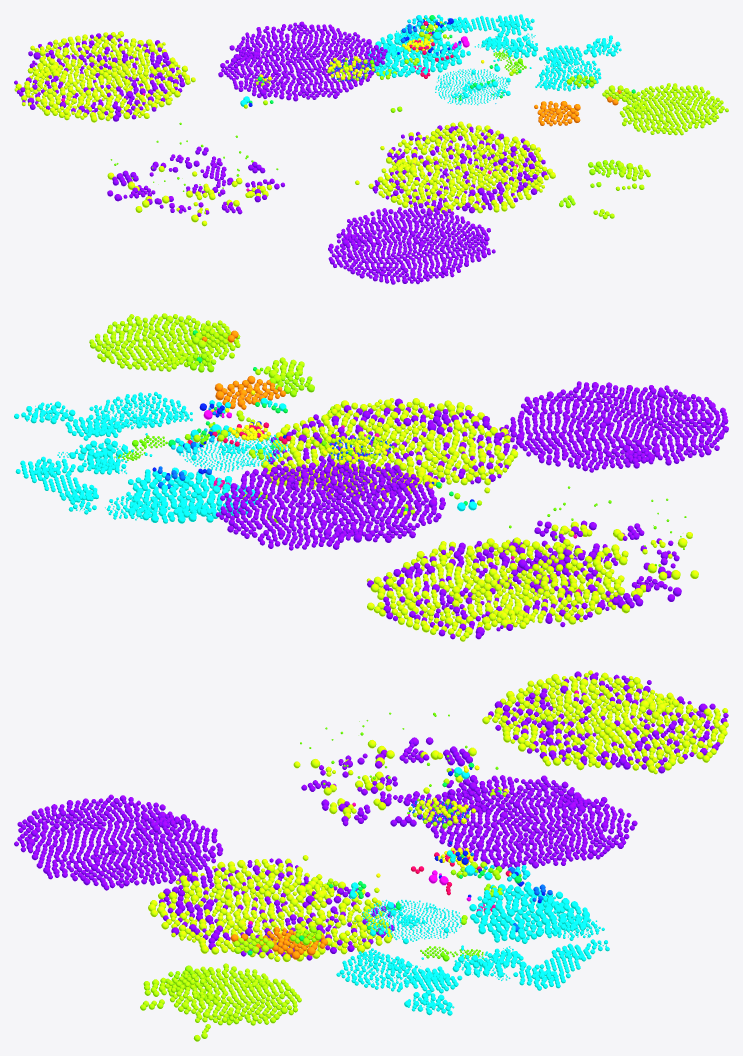
Rendered from task-91d44ac9c-layout.gltf.
3 views of the same model, one above another, from view 1: azimuth 30°, elevation 25°; view 2: azimuth 150°, elevation 25°; view 3: azimuth 270°, elevation 25° (orthographic). The views are drawn at different scales.
Visible parts, largest first — view 1: normal_out_files, normal_pcap_files, normal_no_ext_files, normal_pcapng_files, normal_c_files, normal_h_files, normal_inc_files, normal_txt_files; view 2: normal_out_files, normal_pcap_files, normal_no_ext_files, normal_pcapng_files, normal_c_files, normal_inc_files, normal_h_files, normal_txt_files, normal_cpp_files, normal_sh_files; view 3: normal_out_files, normal_pcap_files, normal_no_ext_files, normal_pcapng_files, normal_c_files, normal_inc_files, normal_h_files, normal_txt_files.
Part boxes in pixels (x1=…): normal_out_files: x1=107, y1=21, x2=495, y2=284; normal_pcap_files: x1=14, y1=31, x2=555, y2=226; normal_no_ext_files: x1=363, y1=14, x2=621, y2=105; normal_pcapng_files: x1=14, y1=33, x2=547, y2=213; normal_c_files: x1=243, y1=24, x2=728, y2=219; normal_h_files: x1=341, y1=23, x2=637, y2=208; normal_inc_files: x1=534, y1=89, x2=621, y2=126; normal_txt_files: x1=39, y1=18, x2=526, y2=193; normal_out_files: x1=216, y1=381, x2=728, y2=601; normal_pcap_files: x1=261, y1=398, x2=698, y2=641; normal_no_ext_files: x1=14, y1=391, x2=289, y2=523; normal_pcapng_files: x1=268, y1=398, x2=679, y2=639; normal_c_files: x1=89, y1=313, x2=481, y2=514; normal_inc_files: x1=202, y1=330, x2=285, y2=409; normal_h_files: x1=179, y1=353, x2=373, y2=522; normal_txt_files: x1=114, y1=367, x2=686, y2=619; normal_cpp_files: x1=322, y1=438, x2=407, y2=516; normal_sh_files: x1=186, y1=390, x2=439, y2=488; normal_out_files: x1=14, y1=737, x2=637, y2=890; normal_pcap_files: x1=148, y1=670, x2=728, y2=961; normal_no_ext_files: x1=336, y1=850, x2=609, y2=1015; normal_pcapng_files: x1=159, y1=671, x2=728, y2=960; normal_c_files: x1=140, y1=768, x2=507, y2=1041; normal_inc_files: x1=230, y1=927, x2=327, y2=959; normal_h_files: x1=165, y1=804, x2=502, y2=1023; normal_txt_files: x1=300, y1=699, x2=663, y2=961.
Bounding box in the file's own units: 338 × 65.15 × 312.
